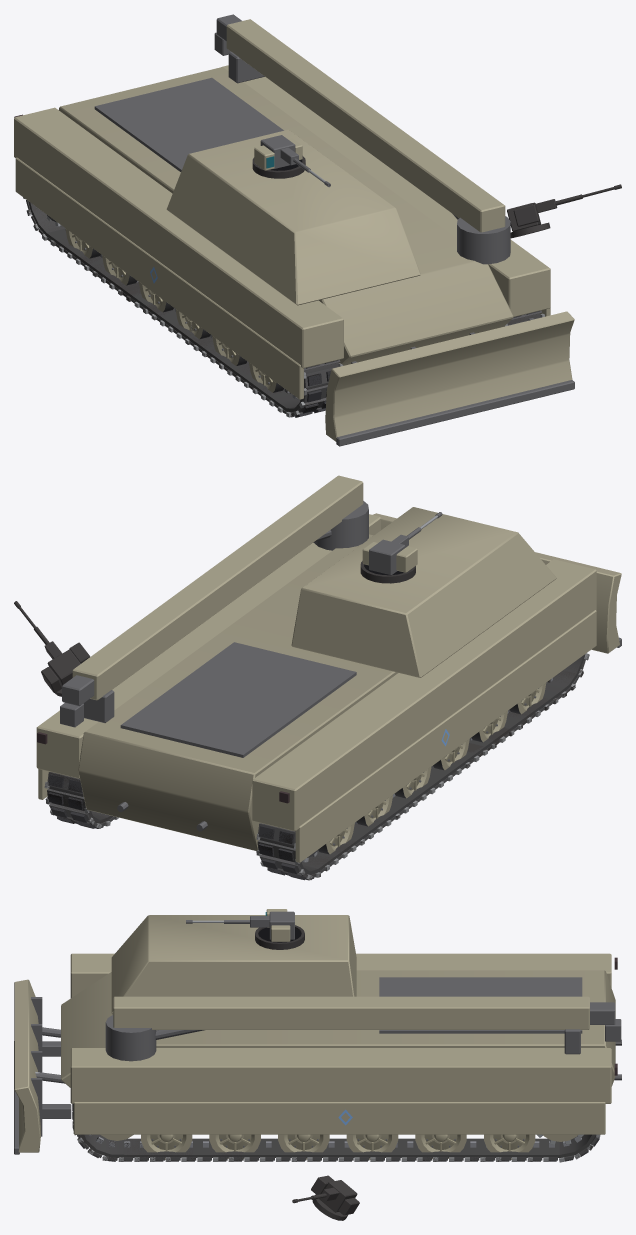
The model's file is recoveryVehicle__k1_arv.glb.
3 renders of one model, top to bottom at view 1: azimuth 30°, elevation 25°; view 2: azimuth 150°, elevation 25°; view 3: azimuth 270°, elevation 25°, orthographic. The views are drawn at different scales.
Visible parts, largest first — view 1: Hull_Mesh, Track_L_Mesh, Wreck, Turret_Mesh; view 2: Hull_Mesh, Track_L_Mesh, Wreck, Track_R_Mesh, Turret_Mesh; view 3: Hull_Mesh, Track_R_Mesh, Wreck, Wheel_R2_Mesh, Wheel_R4_Mesh, Wheel_R3_Mesh, Wheel_R1_Mesh, Wheel_R0_Mesh, Wheel_R5_Mesh, Turret_Mesh, Gun_Mesh.
Part boxes in pixels (x1,y1,x2,y2): Hull_Mesh: (14, 14, 574, 446); Track_L_Mesh: (23, 197, 343, 417); Wreck: (26, 156, 621, 416); Turret_Mesh: (254, 135, 302, 170); Hull_Mesh: (36, 475, 621, 862); Track_L_Mesh: (256, 653, 589, 880); Wreck: (14, 561, 589, 879); Track_R_Mesh: (44, 772, 118, 828); Turret_Mesh: (362, 539, 417, 574); Hull_Mesh: (14, 915, 621, 1154); Track_R_Mesh: (72, 1104, 600, 1162); Wreck: (72, 925, 596, 1220); Wheel_R2_Mesh: (346, 1134, 398, 1159); Wheel_R4_Mesh: (209, 1134, 260, 1158); Wheel_R3_Mesh: (278, 1134, 329, 1159); Wheel_R1_Mesh: (415, 1134, 466, 1158); Wheel_R0_Mesh: (484, 1134, 535, 1159); Wheel_R5_Mesh: (141, 1134, 192, 1159); Turret_Mesh: (265, 909, 294, 941); Gun_Mesh: (186, 916, 269, 927).
Size of what is drawn, in the model's own units: 6.38 by 2.6 by 8.15.
